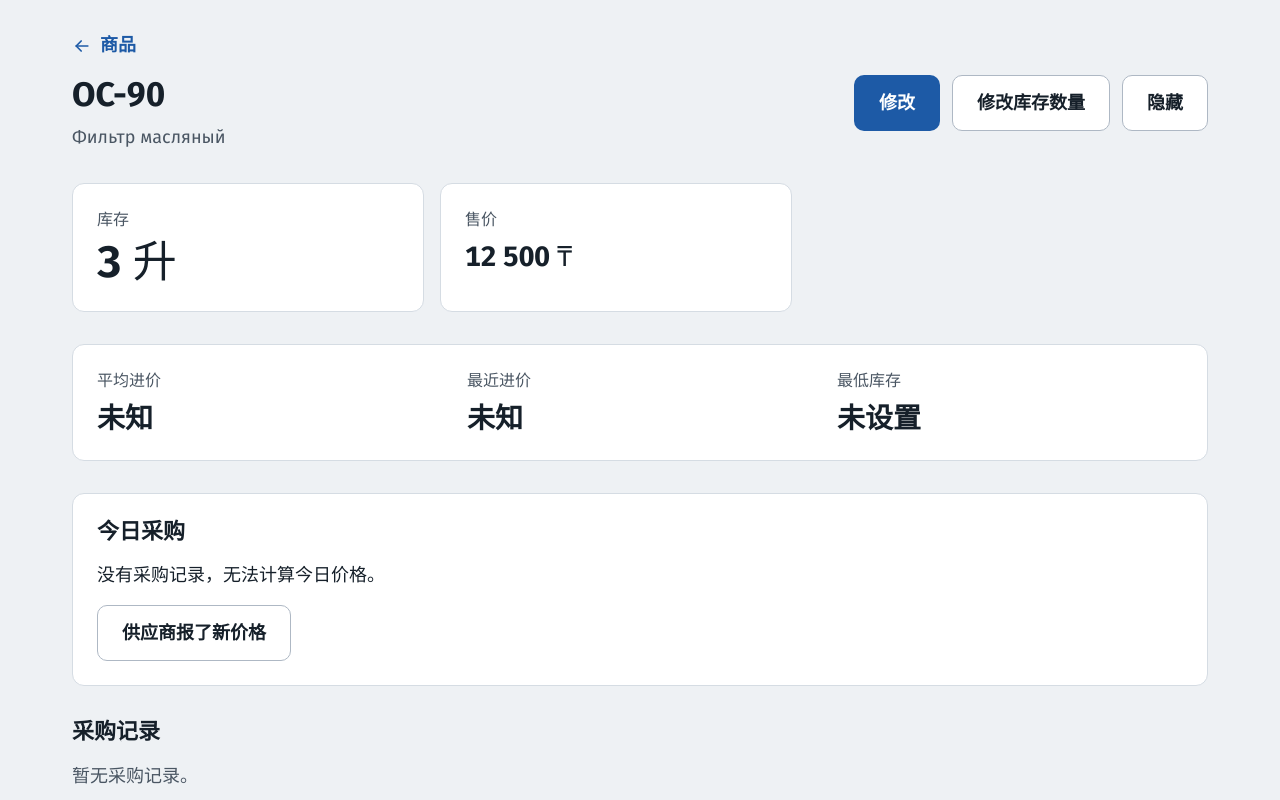
Scenario: archive warning uses the product unit in zh
Click the button "隐藏" at (1165, 103), box top-left (1122, 75), bottom-right (1208, 131)
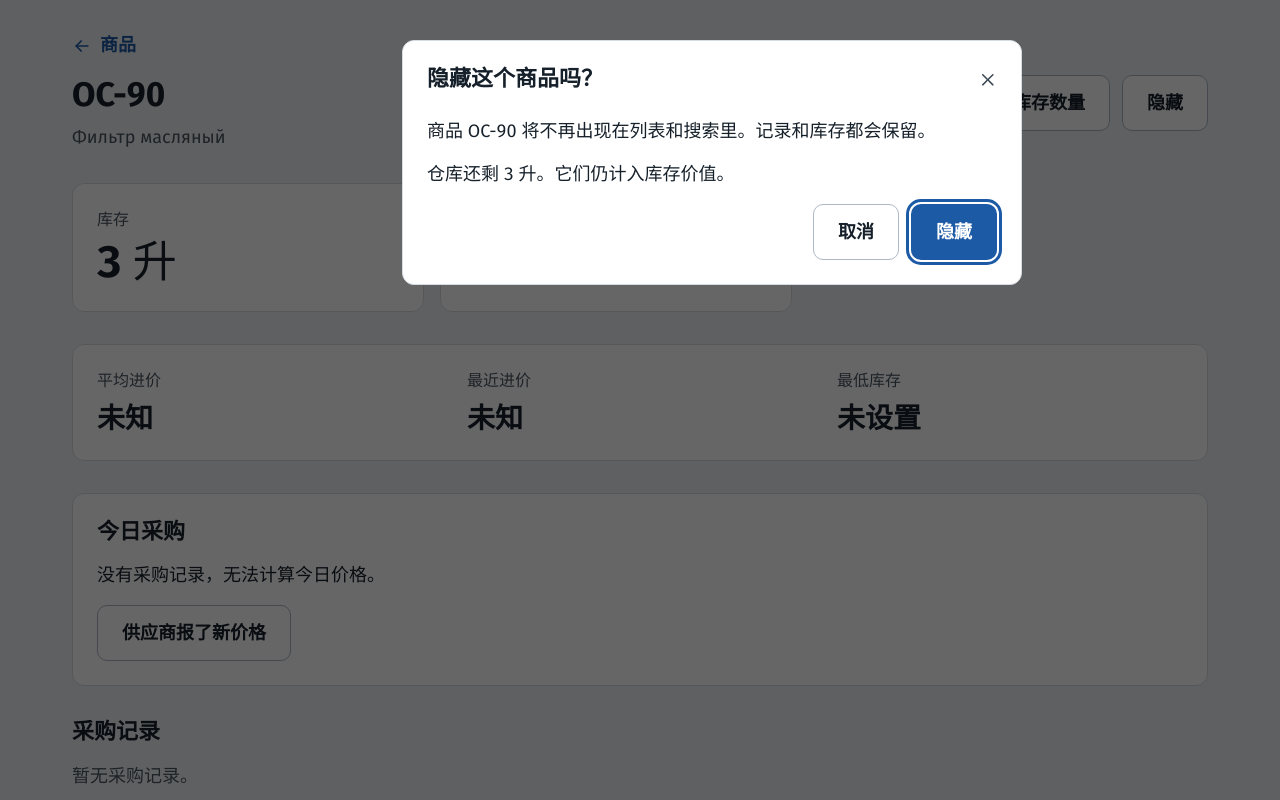
Check: the text "仓库还剩 3 升。它们仍计入库存价值。" is shown, box top-left (427, 163), bottom-right (735, 185)
